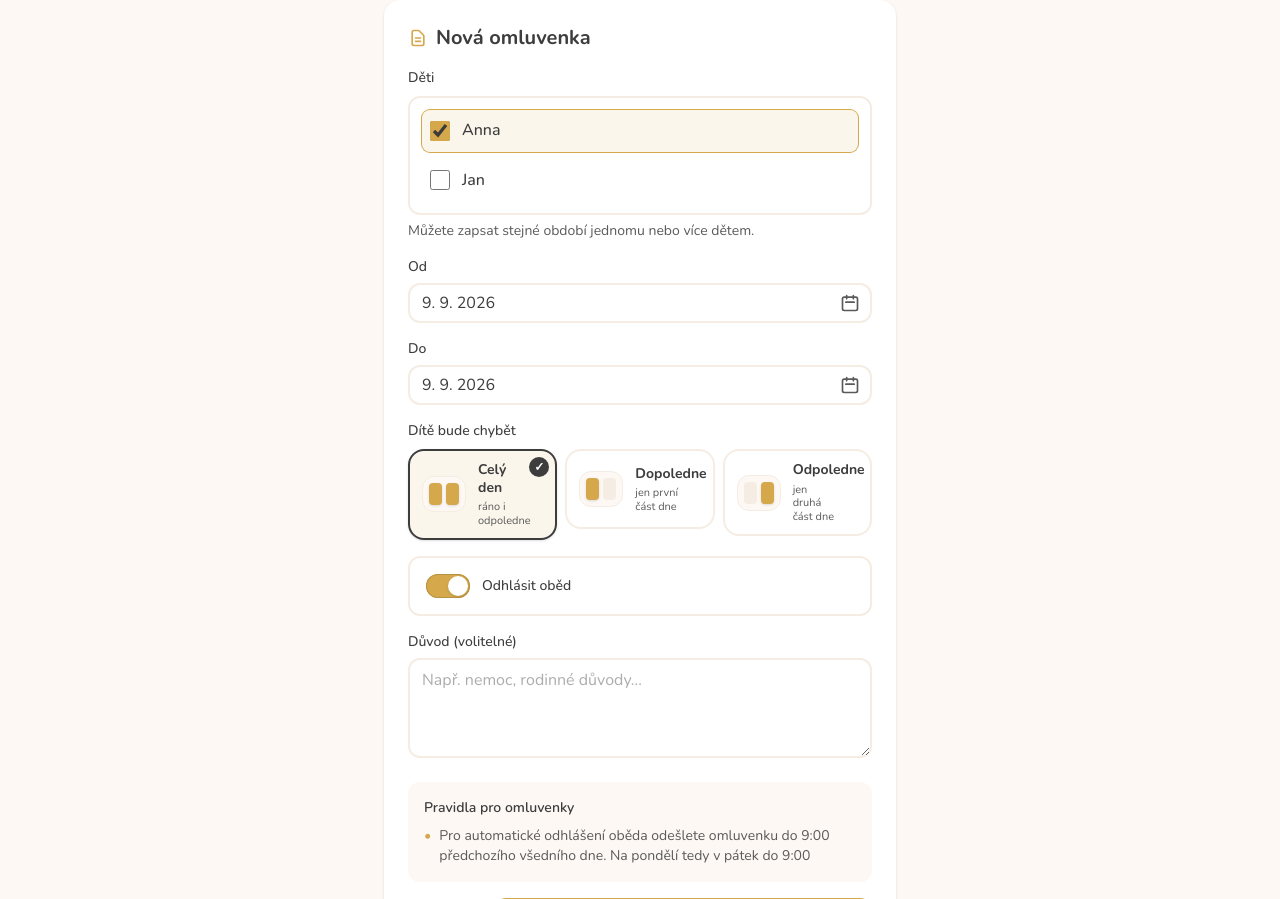
it: NewExcusePage › blocks all days until a child is selected
This screenshot has width=1280, height=899.
Click the checkbox labelled "Anna": click(440, 131) [430, 121, 450, 141]
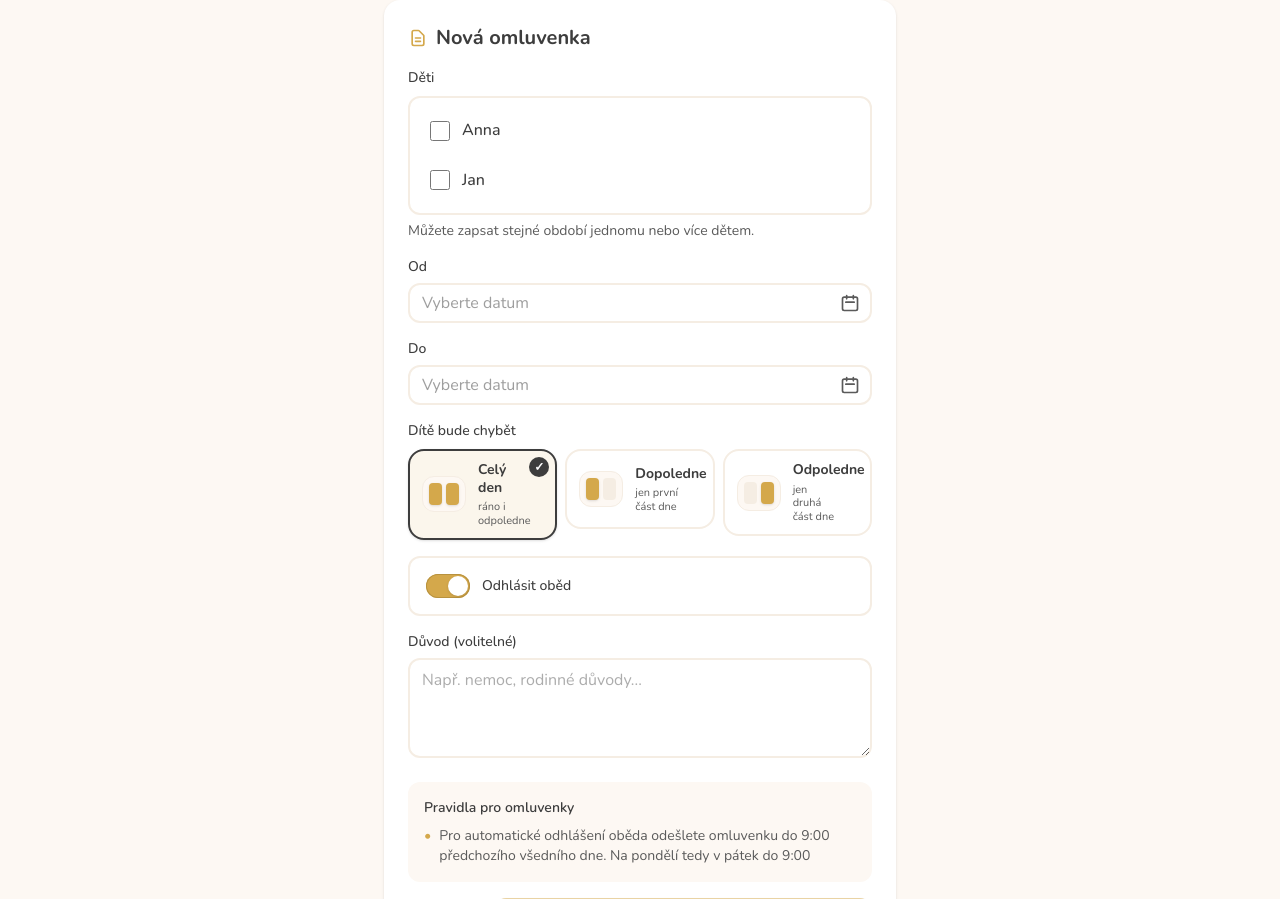
Click the dropdown labelled "Od": click(640, 303) [408, 283, 872, 323]
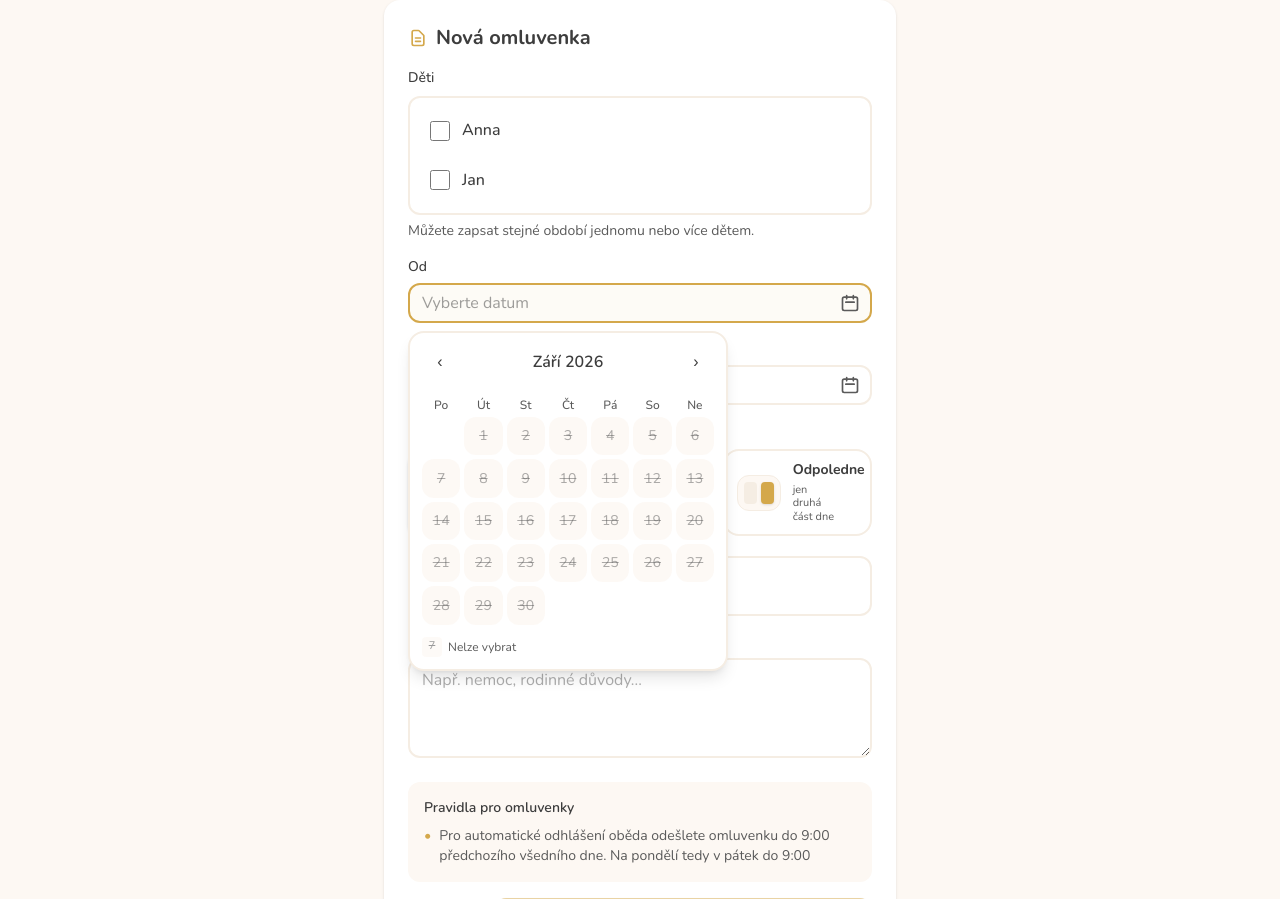
Check: the button named "středa 9. září 2026" is disabled, box [507, 460, 545, 498]
